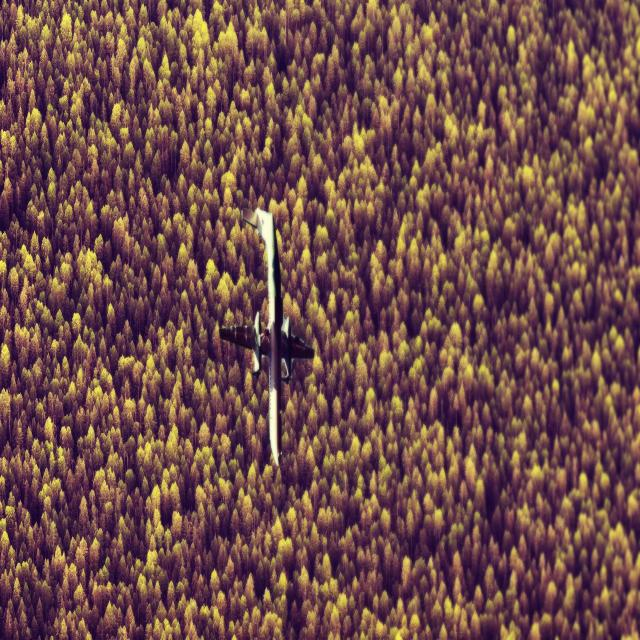airplane: (218, 206, 315, 467)
